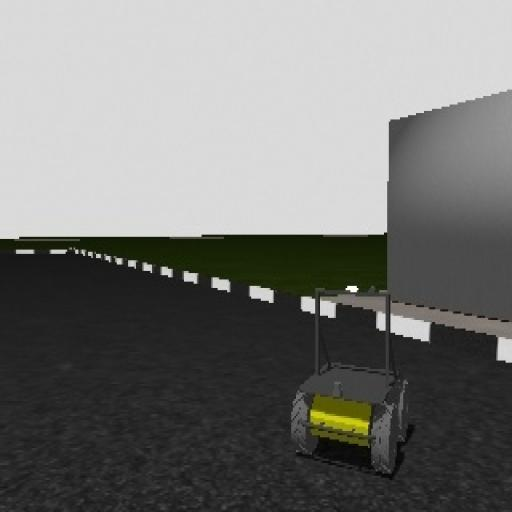huskya200: (275, 274, 421, 486)
